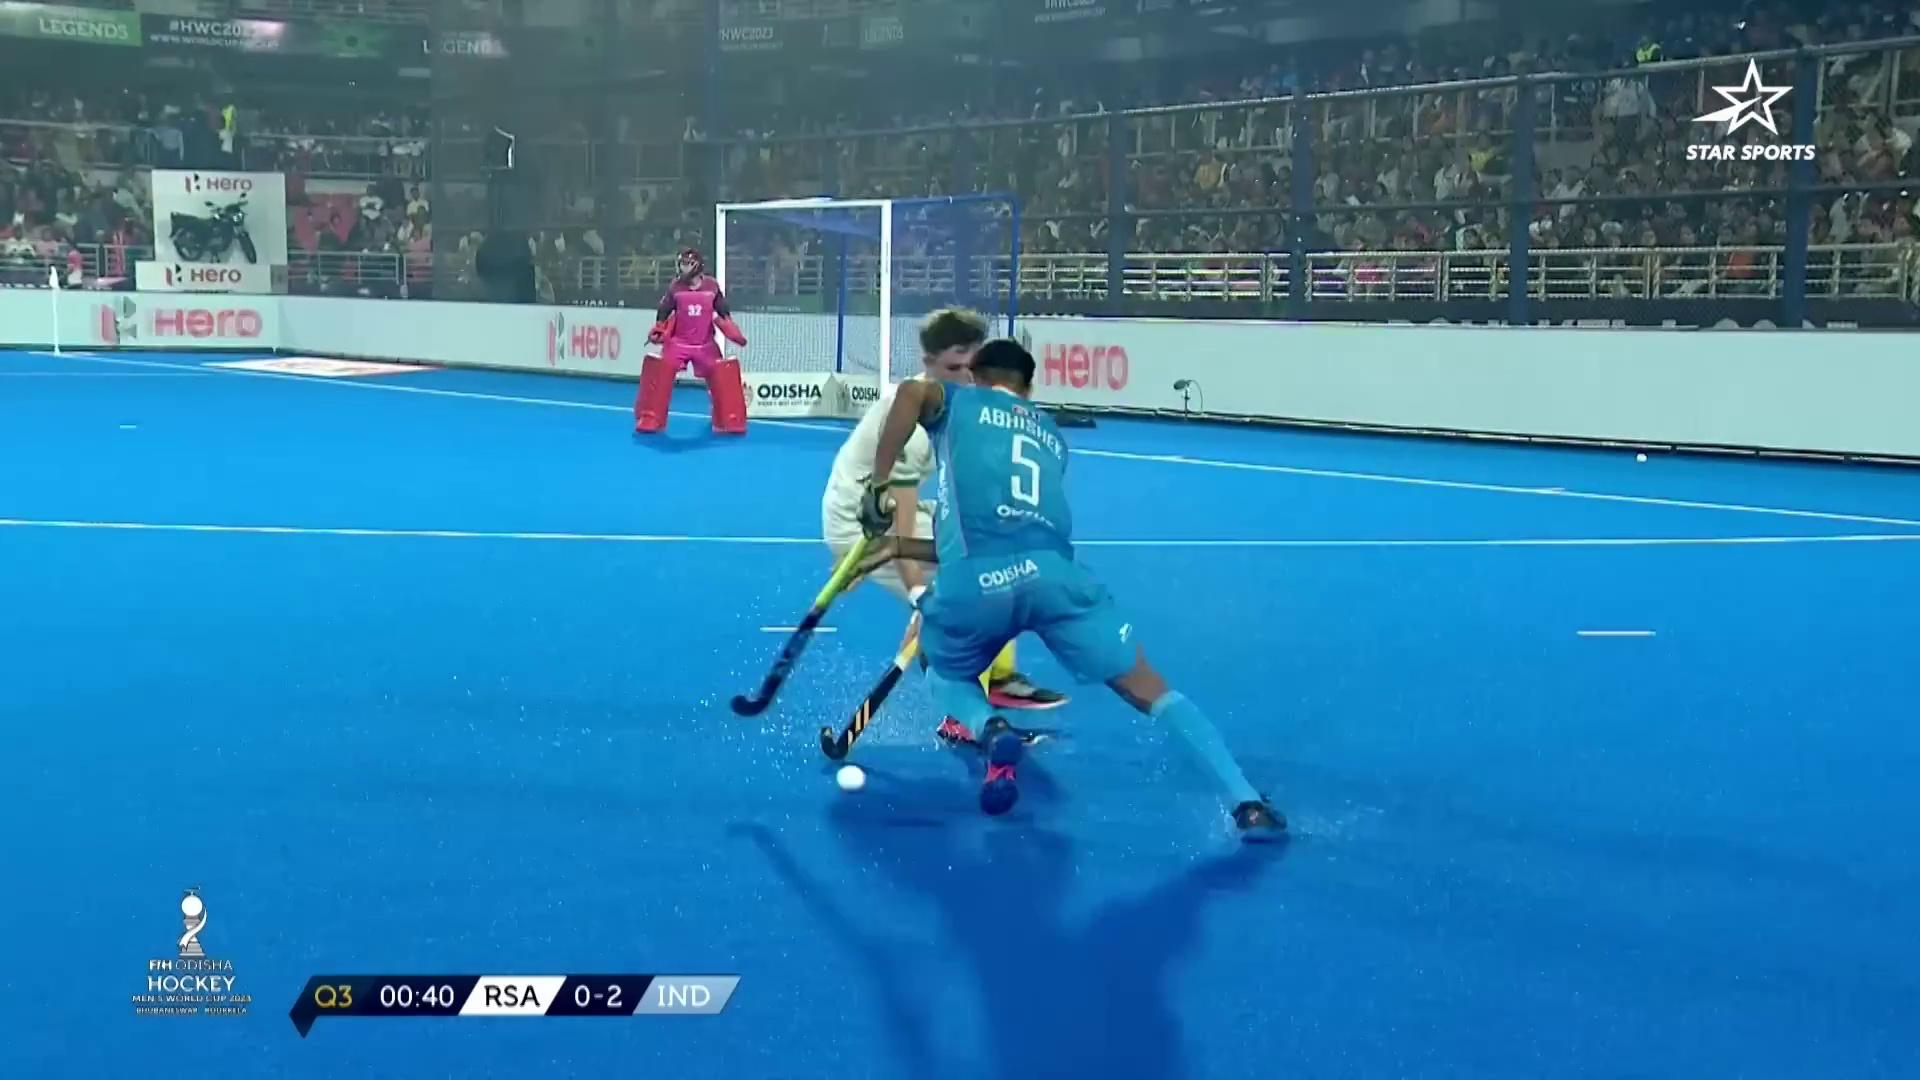ball: (831, 741, 881, 808)
